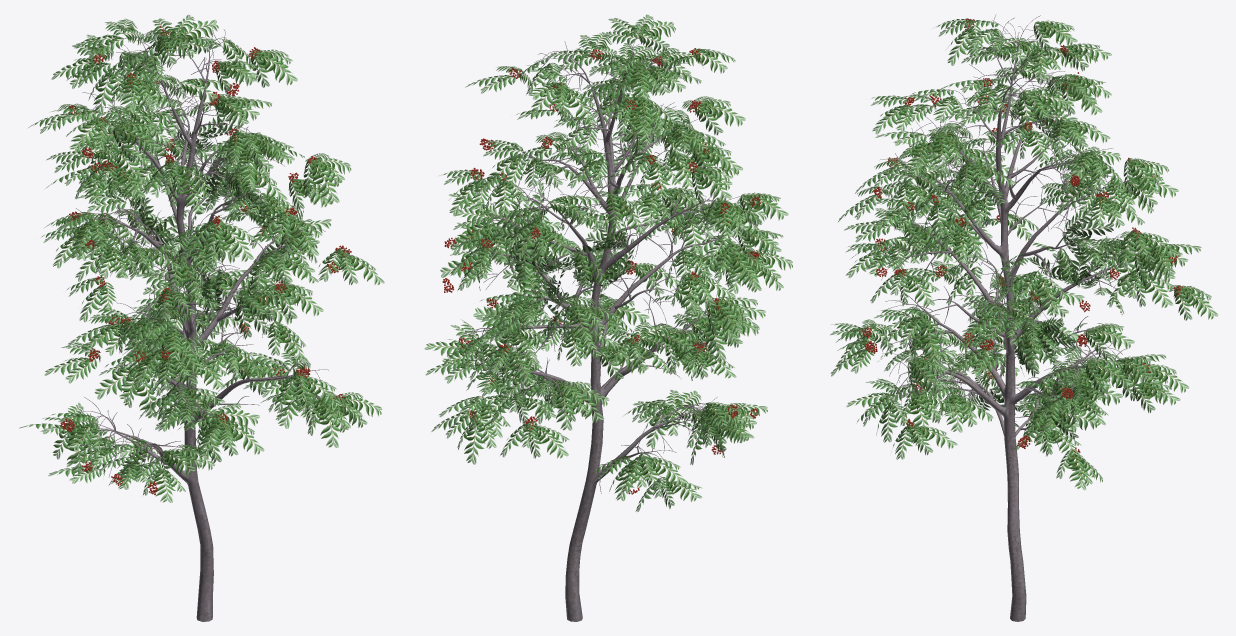
File: asset.glb
3 views of the same model, side by side, from view 1: azimuth 30°, elevation 25°; view 2: azimuth 150°, elevation 25°; view 3: azimuth 270°, elevation 25° (orthographic). The views are drawn at different scales.
Parts seen in each view (by area): view 1: Object001Mesh, rowan_07Mesh, Plane080Mesh, Plane124Mesh, Plane148Mesh, Plane079Mesh, Plane086Mesh, Plane070Mesh, Plane033Mesh, Plane142Mesh, Plane153Mesh, Plane064Mesh (+81 smaller); view 2: Object001Mesh, rowan_07Mesh, Plane112Mesh, Plane115Mesh, Plane008Mesh, Plane071Mesh, Plane147Mesh, Plane036Mesh, Plane021Mesh, Plane016Mesh, Plane038Mesh, Plane091Mesh (+87 smaller); view 3: Object001Mesh, rowan_07Mesh, Plane043Mesh, Plane129Mesh, Plane116Mesh, Plane092Mesh, Plane057Mesh, Plane046Mesh, Plane048Mesh, Plane136Mesh, Plane028Mesh, Plane022Mesh (+70 smaller).
Boxes of the visible parts, x1=… form: Object001Mesh: x1=72, y1=25, x2=328, y2=621; rowan_07Mesh: x1=60, y1=26, x2=351, y2=494; Plane080Mesh: x1=249, y1=211, x2=321, y2=256; Plane124Mesh: x1=94, y1=364, x2=162, y2=418; Plane148Mesh: x1=183, y1=218, x2=255, y2=261; Plane079Mesh: x1=303, y1=153, x2=351, y2=204; Plane086Mesh: x1=274, y1=372, x2=342, y2=412; Plane070Mesh: x1=112, y1=112, x2=161, y2=162; Plane033Mesh: x1=234, y1=289, x2=296, y2=339; Plane142Mesh: x1=193, y1=416, x2=264, y2=459; Plane153Mesh: x1=67, y1=62, x2=125, y2=115; Plane064Mesh: x1=110, y1=74, x2=174, y2=113; Object001Mesh: x1=458, y1=28, x2=741, y2=621; rowan_07Mesh: x1=442, y1=48, x2=760, y2=494; Plane112Mesh: x1=603, y1=14, x2=675, y2=51; Plane115Mesh: x1=449, y1=193, x2=495, y2=256; Plane008Mesh: x1=621, y1=453, x2=687, y2=493; Plane071Mesh: x1=529, y1=81, x2=596, y2=125; Plane147Mesh: x1=671, y1=272, x2=735, y2=315; Plane036Mesh: x1=696, y1=247, x2=765, y2=290; Plane021Mesh: x1=431, y1=411, x2=496, y2=464; Plane016Mesh: x1=500, y1=421, x2=569, y2=458; Plane038Mesh: x1=469, y1=346, x2=541, y2=386; Plane091Mesh: x1=563, y1=302, x2=619, y2=342; Object001Mesh: x1=880, y1=14, x2=1156, y2=621; rowan_07Mesh: x1=860, y1=19, x2=1182, y2=457; Plane043Mesh: x1=881, y1=316, x2=951, y2=364; Plane129Mesh: x1=1010, y1=87, x2=1073, y2=136; Plane116Mesh: x1=998, y1=271, x2=1068, y2=315; Plane092Mesh: x1=1107, y1=269, x2=1173, y2=307; Plane057Mesh: x1=1112, y1=229, x2=1179, y2=269; Plane046Mesh: x1=907, y1=350, x2=957, y2=396; Plane048Mesh: x1=901, y1=389, x2=954, y2=432; Plane136Mesh: x1=870, y1=270, x2=939, y2=307; Plane028Mesh: x1=1017, y1=319, x2=1079, y2=369; Plane022Mesh: x1=1082, y1=354, x2=1133, y2=394.
Size of the model in its own units: 0.18 by 0.311 by 0.1952.
154 materials, 154 textured.
